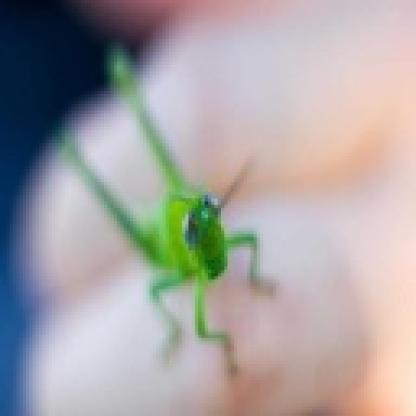grasshopper: (65, 65, 303, 363)
